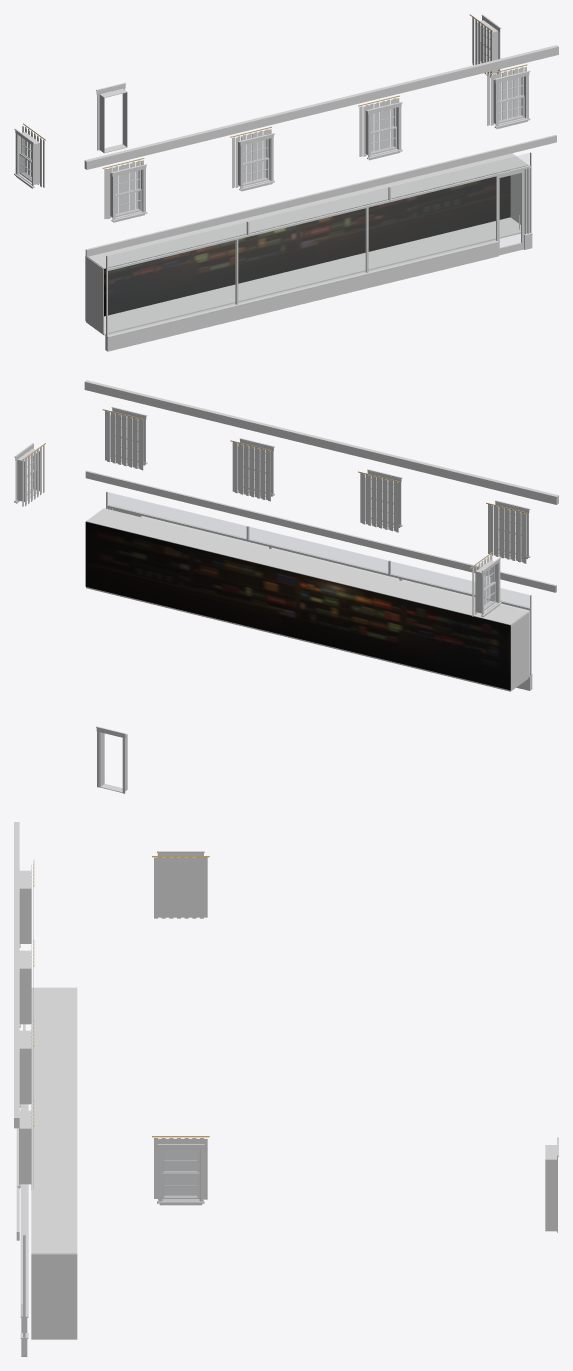
Rendered from SM_Town_Hardware_Trim.fbx.
3 renders of one model, top to bottom at view 1: azimuth 30°, elevation 25°; view 2: azimuth 150°, elevation 25°; view 3: azimuth 270°, elevation 25°, orthographic. The views are drawn at different scales.
Visible parts, largest first — view 1: SM_Town_Hardware_Trim_1; view 2: SM_Town_Hardware_Trim_1; view 3: SM_Town_Hardware_Trim_1.
Boxes of the visible parts, x1,y1,x2,y2 form: SM_Town_Hardware_Trim_1: (14,14,558,351); SM_Town_Hardware_Trim_1: (14,380,558,793); SM_Town_Hardware_Trim_1: (14,822,558,1356).
Bounding box in the file's own units: 1824 × 730 × 1420.
